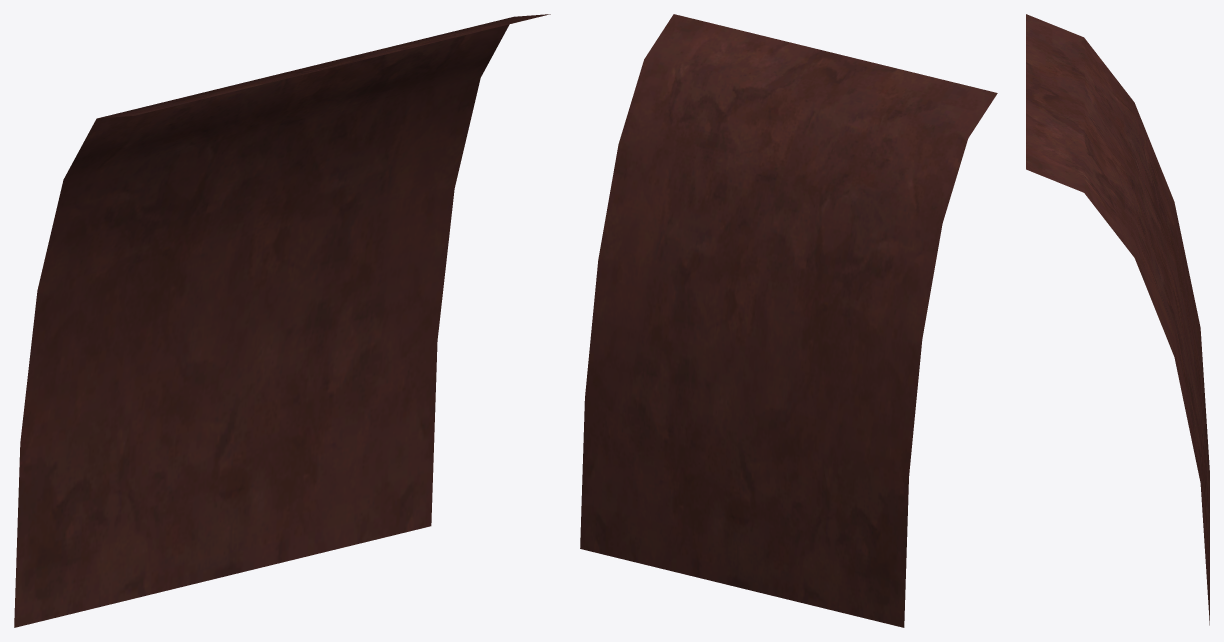
File: lava_base_straight_01.fbx
The picture shows the model from 3 angles, left to right: view 1: azimuth 30°, elevation 25°; view 2: azimuth 150°, elevation 25°; view 3: azimuth 270°, elevation 25°; orthographic projection. The views are drawn at different scales.
Parts seen in each view (by area): view 1: lava_tileset/lava_wall02; view 2: lava_tileset/lava_wall02; view 3: lava_tileset/lava_wall02.
Part boxes in pixels (x1=…): lava_tileset/lava_wall02: x1=14, y1=14, x2=550, y2=627; lava_tileset/lava_wall02: x1=580, y1=14, x2=997, y2=627; lava_tileset/lava_wall02: x1=1026, y1=14, x2=1209, y2=625.
Bounding box in the file's own units: 4 × 5.5 × 2.
